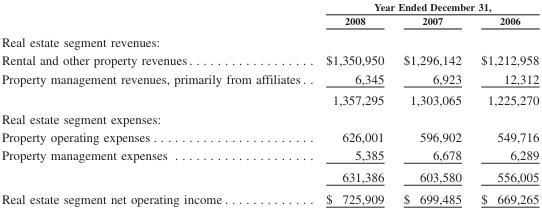table: (0, 0, 538, 205)
table column: (0, 0, 315, 205), (315, 0, 393, 205), (393, 0, 470, 205), (470, 0, 538, 205)
table column header: (0, 0, 538, 30)
table projected row header: (0, 30, 538, 51), (0, 109, 538, 127)
table row: (0, 165, 538, 187), (0, 30, 538, 51), (0, 69, 538, 89), (0, 89, 538, 109), (0, 145, 538, 165), (0, 51, 538, 69), (0, 109, 538, 127), (0, 127, 538, 145), (0, 187, 538, 205), (0, 13, 538, 30), (0, 0, 538, 13)
table spanning cell: (315, 0, 538, 13)
